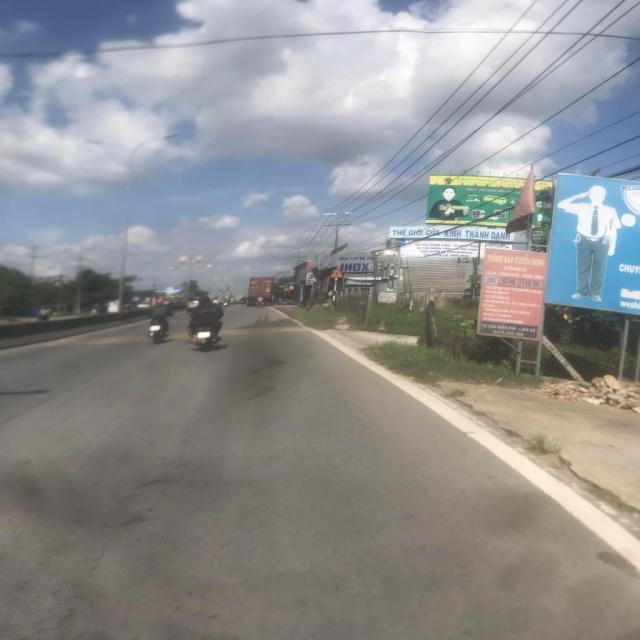chu_y_nguoi_di_bo_cat_ngang: (328, 267, 345, 278)
giao_nhau_voi_duong_khong_uu_tien: (282, 286, 288, 290)
